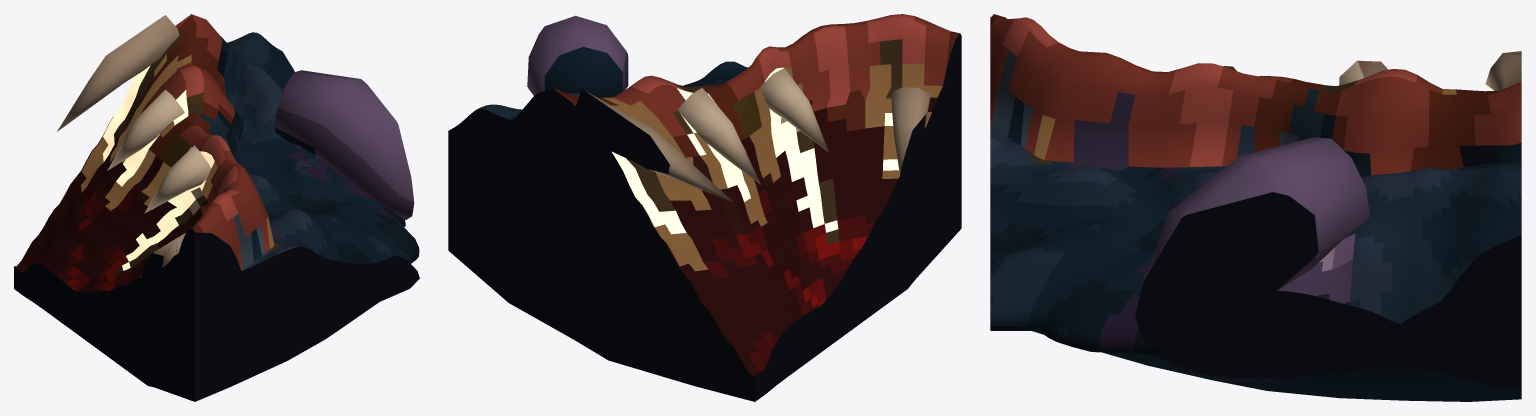
File: newshn-159.glb
3 renders of one model, left to right at view 1: azimuth 30°, elevation 25°; view 2: azimuth 150°, elevation 25°; view 3: azimuth 270°, elevation 25°, orthographic. The views are drawn at different scales.
Visible parts, largest first — view 1: newshn-159, newshn-159-f159; view 2: newshn-159, newshn-159-f159, newshn-159-f273, newshn-159-f269; view 3: newshn-159, newshn-159-f159.
Part boxes in pixels (bbox=[...]): newshn-159: bbox=[14, 14, 419, 401]; newshn-159-f159: bbox=[57, 15, 211, 281]; newshn-159: bbox=[448, 14, 961, 401]; newshn-159-f159: bbox=[571, 68, 930, 202]; newshn-159-f273: bbox=[573, 90, 923, 164]; newshn-159-f269: bbox=[574, 91, 666, 171]; newshn-159: bbox=[990, 14, 1521, 401]; newshn-159-f159: bbox=[1221, 51, 1521, 90].
Size of the model in its own units: 2 by 1.69 by 2.33.
